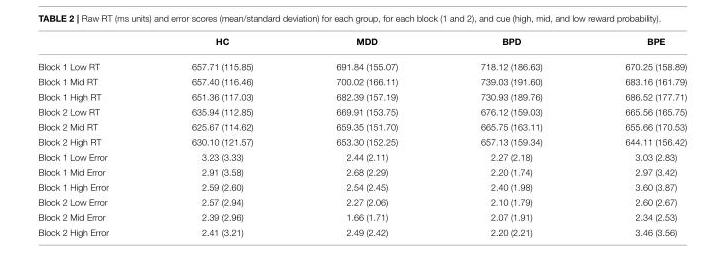table: (37, 36, 686, 236)
table column: (149, 36, 294, 236), (438, 36, 583, 236), (294, 36, 438, 236), (37, 36, 149, 236), (583, 36, 686, 236)
table column header: (37, 36, 686, 54)
table row: (37, 54, 686, 74), (37, 36, 686, 54), (37, 74, 686, 89), (37, 89, 686, 104), (37, 104, 686, 119), (37, 119, 686, 134), (37, 134, 686, 149), (37, 149, 686, 164), (37, 164, 686, 179), (37, 179, 686, 194), (37, 194, 686, 209), (37, 209, 686, 224), (37, 224, 686, 236)
